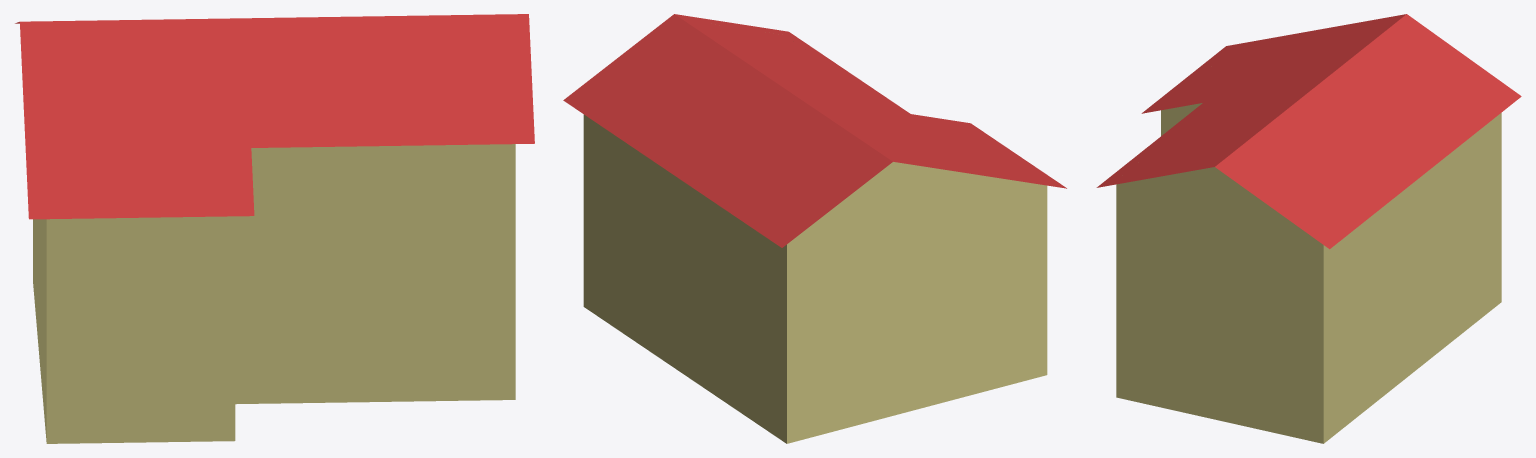
3 views of the same model, side by side, from view 1: azimuth 30°, elevation 25°; view 2: azimuth 150°, elevation 25°; view 3: azimuth 270°, elevation 25° (orthographic). The views are drawn at different scales.
Size of the model in its own units: 17.45 by 14.32 by 9.64.
